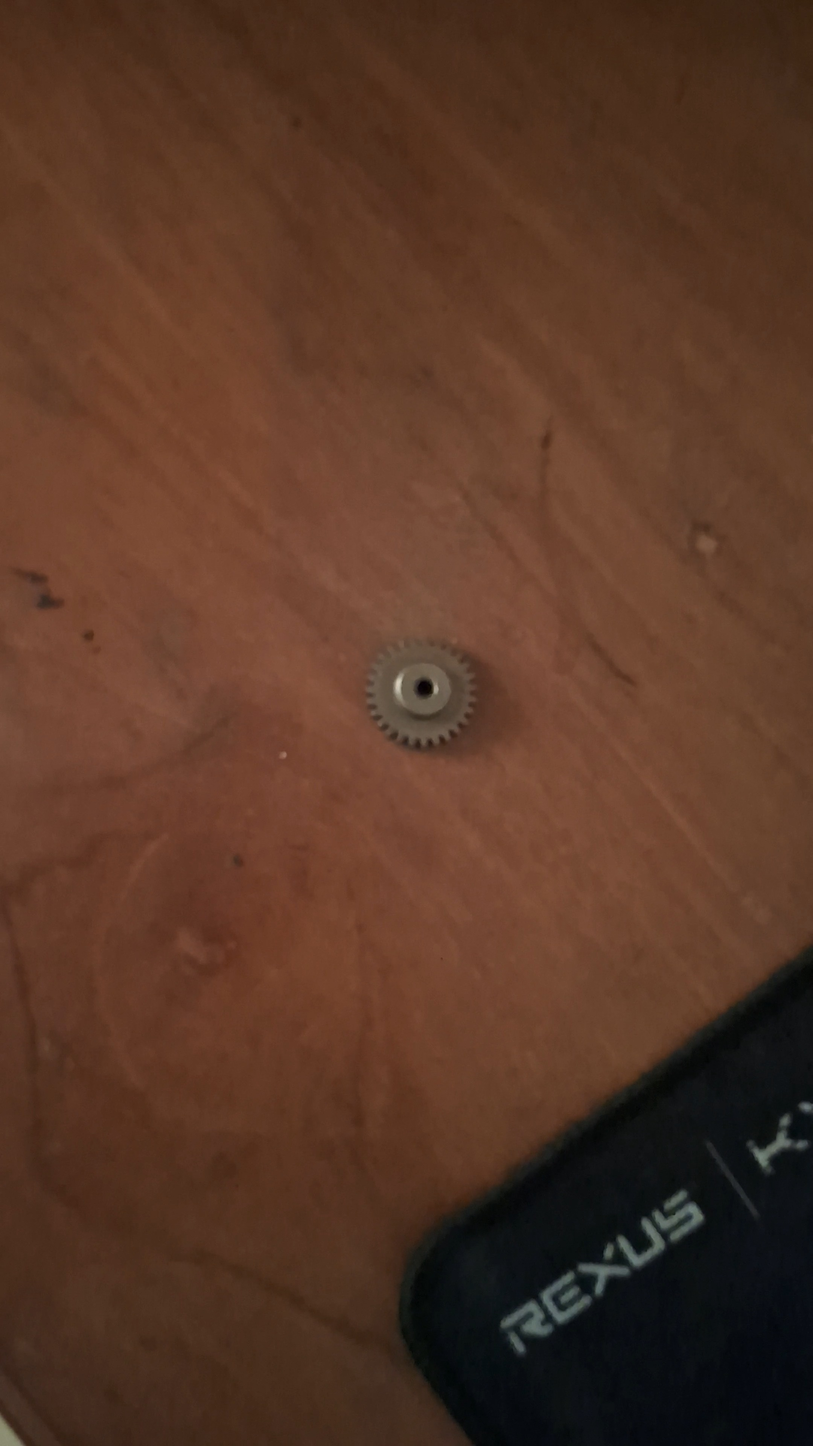spur gear: (367, 641, 475, 748)
